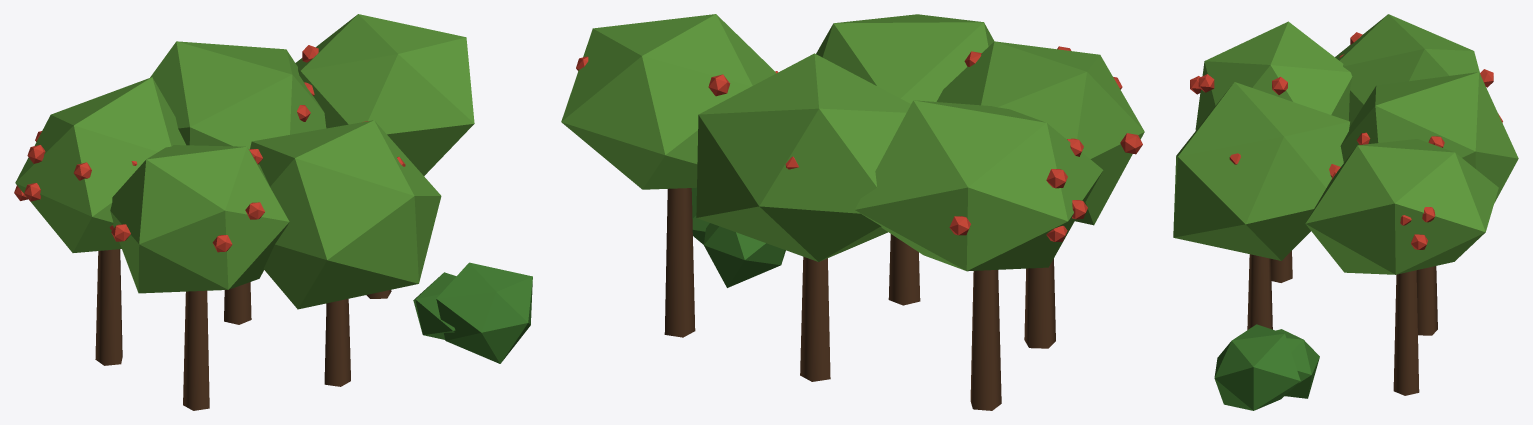
The model's file is sawyer_orchard_a.glb.
3 renders of one model, left to right at view 1: azimuth 30°, elevation 25°; view 2: azimuth 150°, elevation 25°; view 3: azimuth 270°, elevation 25°, orthographic. The views are drawn at different scales.
Parts seen in each view (by area): view 1: fruit_4_crown, fruit_3_crown, fruit_2_crown, fruit_0_crown, fruit_1_crown, bush_5_leaves0, fruit_3_trunk, fruit_0_trunk, fruit_4_trunk, bush_5_leaves1, fruit_1_trunk; view 2: fruit_1_crown, fruit_0_crown, fruit_2_crown, fruit_3_crown, fruit_4_crown, fruit_2_trunk, fruit_0_trunk, fruit_1_trunk, bush_5_leaves1, fruit_3_trunk, fruit_4_trunk; view 3: fruit_4_crown, fruit_2_crown, fruit_1_crown, fruit_3_crown, fruit_0_crown, bush_5_leaves0, fruit_2_trunk, fruit_4_trunk, fruit_1_trunk, bush_5_leaves1, fruit_3_trunk.
Part boxes in pixels (<box>): fruit_4_crown: <box>250,120,441,309</box>; fruit_3_crown: <box>110,145,289,293</box>; fruit_2_crown: <box>295,14,474,175</box>; fruit_0_crown: <box>15,77,185,252</box>; fruit_1_crown: <box>150,41,326,149</box>; bush_5_leaves0: <box>436,262,532,363</box>; fruit_3_trunk: <box>183,290,209,410</box>; fruit_0_trunk: <box>95,249,122,365</box>; fruit_4_trunk: <box>324,299,350,386</box>; bush_5_leaves1: <box>413,272,456,339</box>; fruit_1_trunk: <box>224,282,251,324</box>; fruit_1_crown: <box>696,53,910,261</box>; fruit_0_crown: <box>855,100,1103,271</box>; fruit_2_crown: <box>561,14,775,189</box>; fruit_3_crown: <box>936,41,1144,225</box>; fruit_4_crown: <box>816,14,994,103</box>; fruit_2_trunk: <box>664,188,695,337</box>; fruit_0_trunk: <box>970,270,1001,410</box>; fruit_1_trunk: <box>800,256,830,381</box>; bush_5_leaves1: <box>704,223,785,287</box>; fruit_3_trunk: <box>1024,258,1055,348</box>; fruit_4_trunk: <box>888,234,920,305</box>; fruit_4_crown: <box>1173,82,1349,260</box>; fruit_2_crown: <box>1305,139,1498,274</box>; fruit_1_crown: <box>1340,72,1518,203</box>; fruit_3_crown: <box>1195,21,1352,130</box>; fruit_0_crown: <box>1335,14,1480,126</box>; bush_5_leaves0: <box>1214,324,1300,410</box>; fruit_2_trunk: <box>1393,270,1419,395</box>; fruit_4_trunk: <box>1247,254,1272,329</box>; fruit_1_trunk: <box>1416,266,1437,335</box>; bush_5_leaves1: <box>1276,329,1319,398</box>; fruit_3_trunk: <box>1271,251,1292,282</box>.
Bounding box in the file's own units: 3.48 × 2.02 × 2.54.
